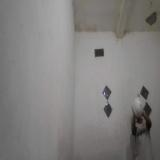Helmet: (132, 97, 142, 119)
